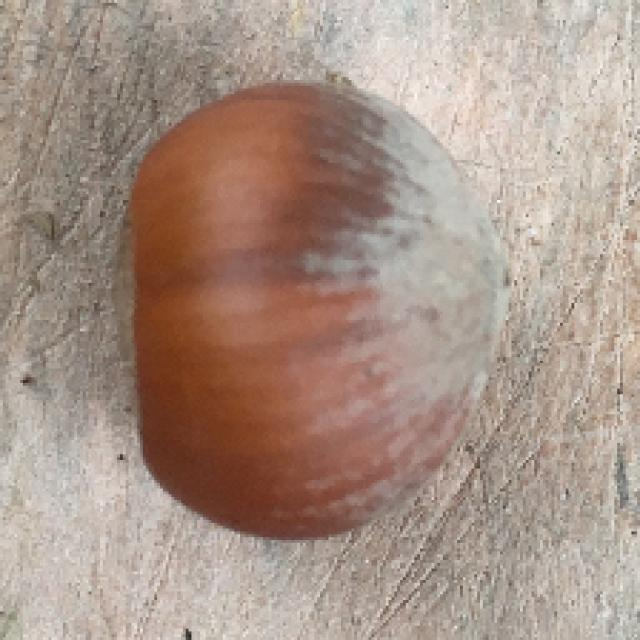qualityHazelnut: (108, 66, 502, 531)
